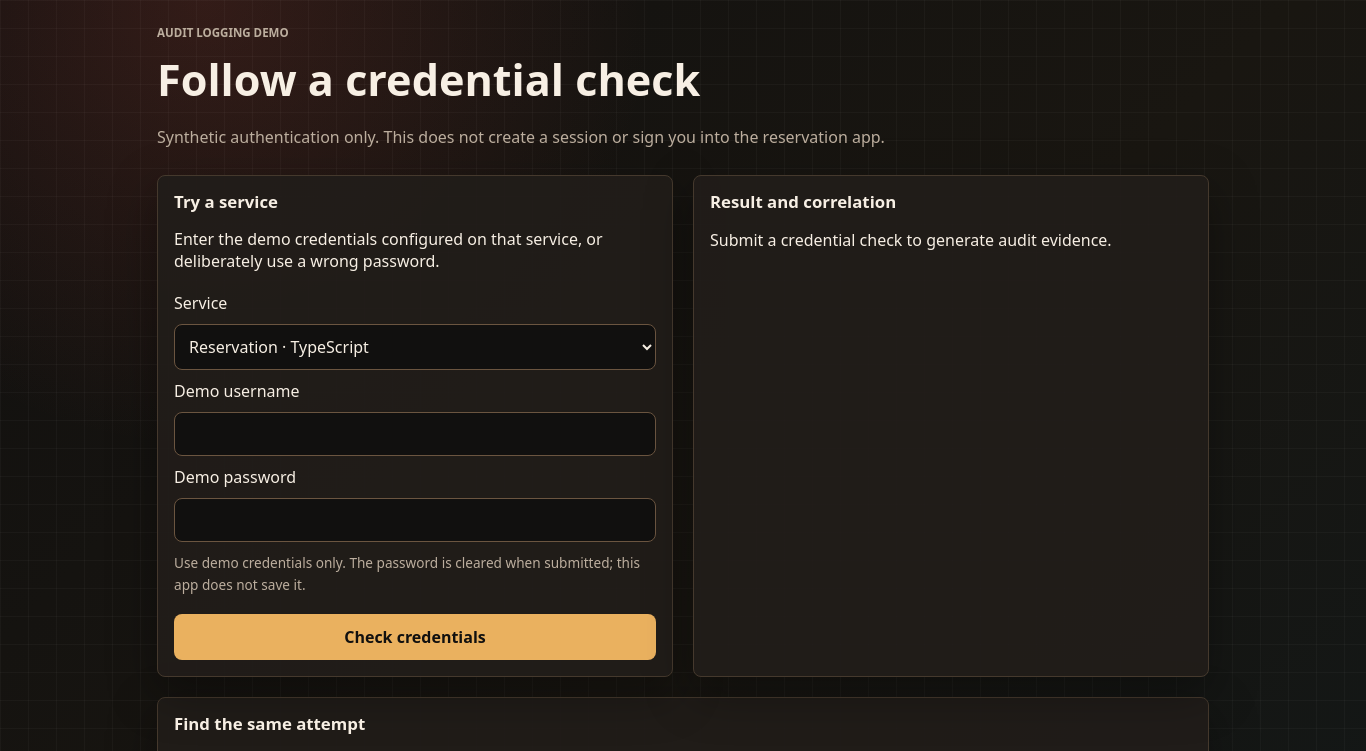
Test: audit credential check screen › explains HTTP 404 safely
Type "demo-only" into the field labelled "Demo username". click: (415, 434)
box: [174,412,656,456]
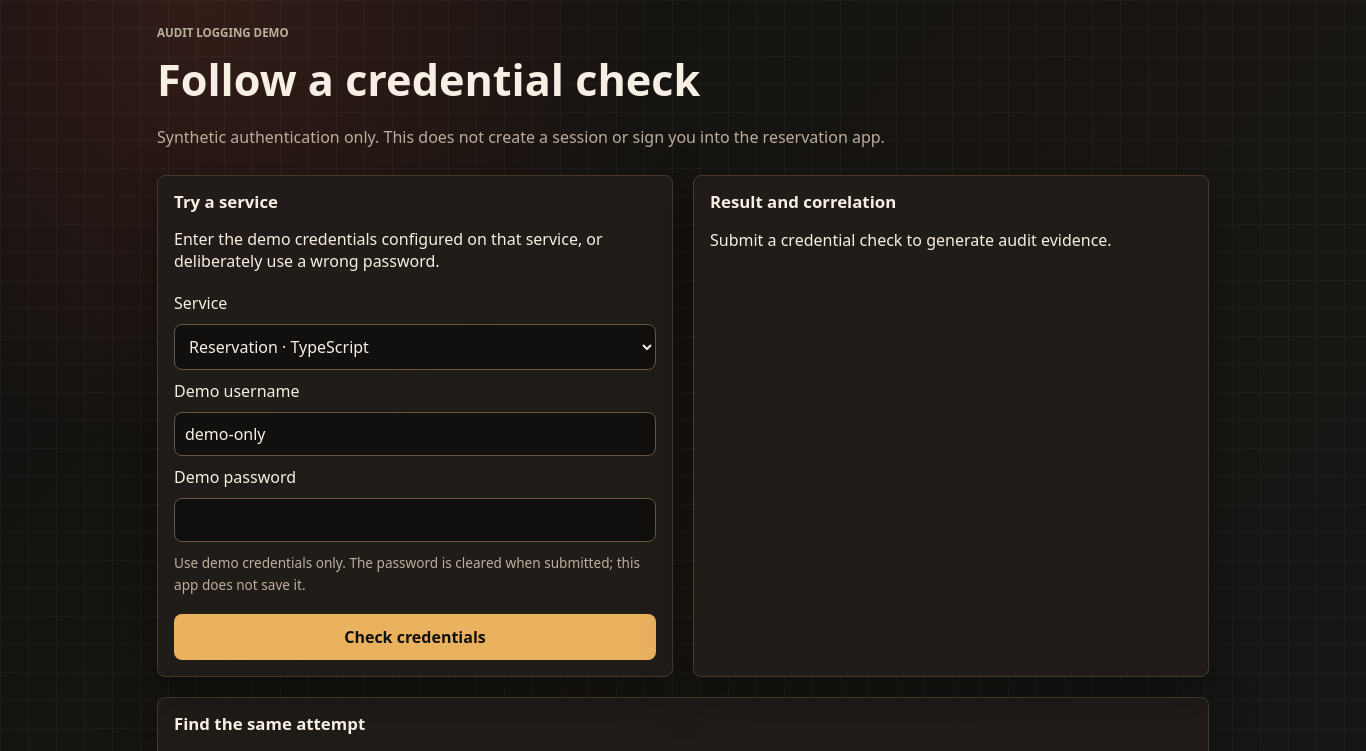
Type "wrong-test-password" into the password field labelled "Demo password". click: (415, 520)
box: [174,498,656,542]
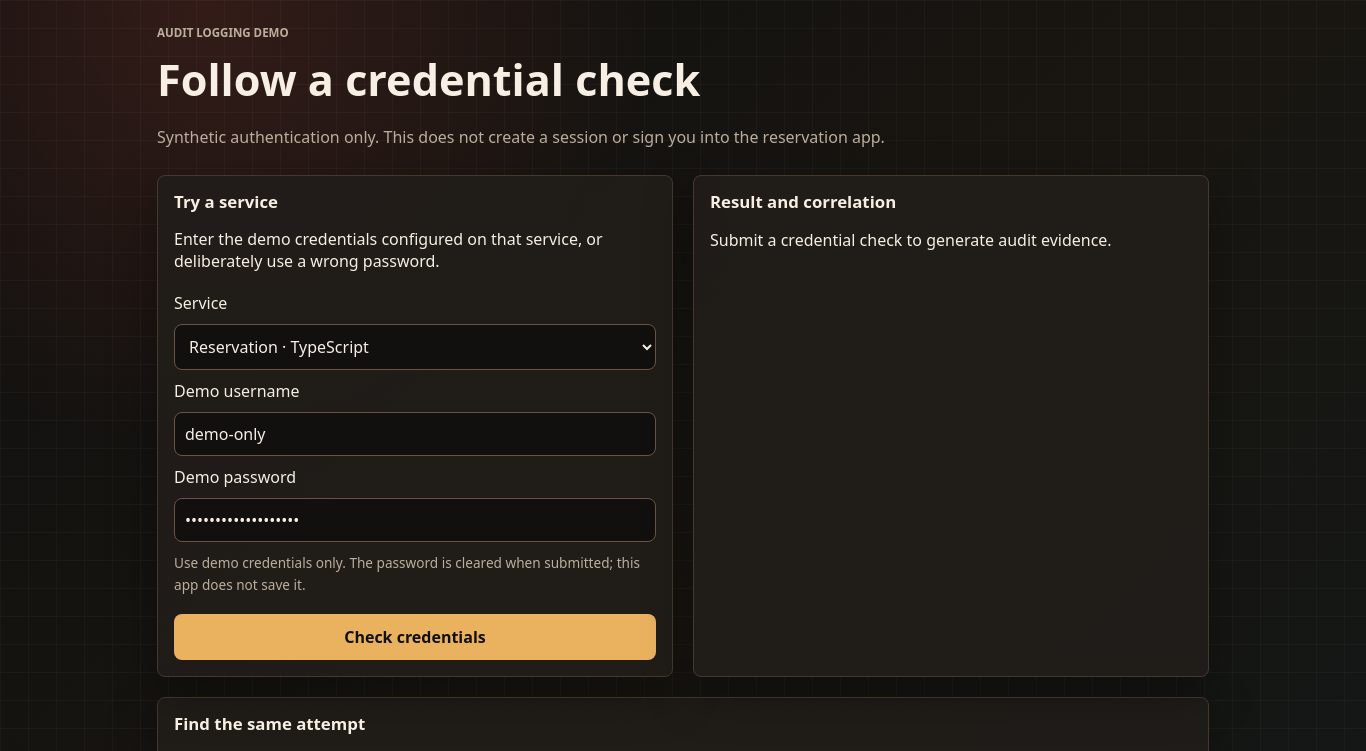
Click the button "Check credentials". click: (415, 637)
box: [174,614,656,660]
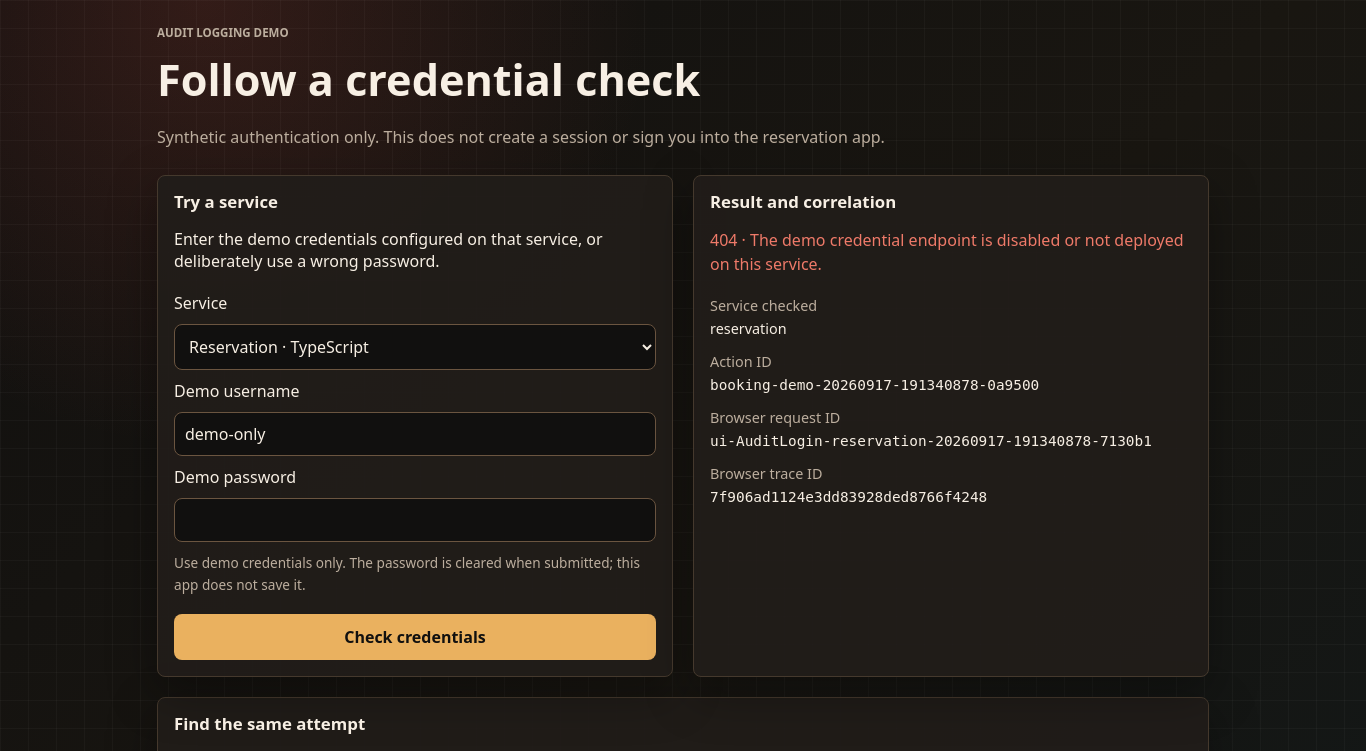
Now the message shows "disabled or not deployed", box [710,229,1184,275]
